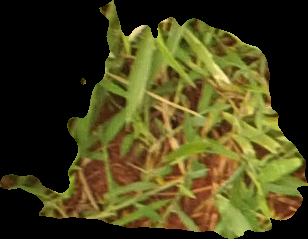grass: (1, 2, 307, 237)
